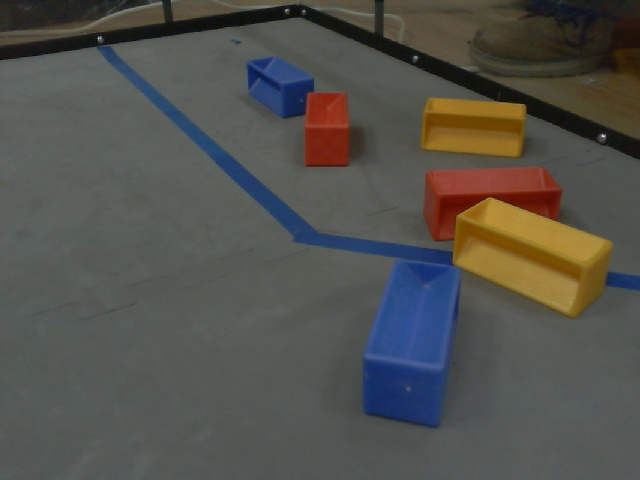BlueSample: (358, 252, 461, 427), (245, 53, 316, 122)
RedSample: (420, 163, 562, 243), (302, 87, 355, 170)
YellowSample: (447, 194, 616, 321), (418, 95, 530, 160)
